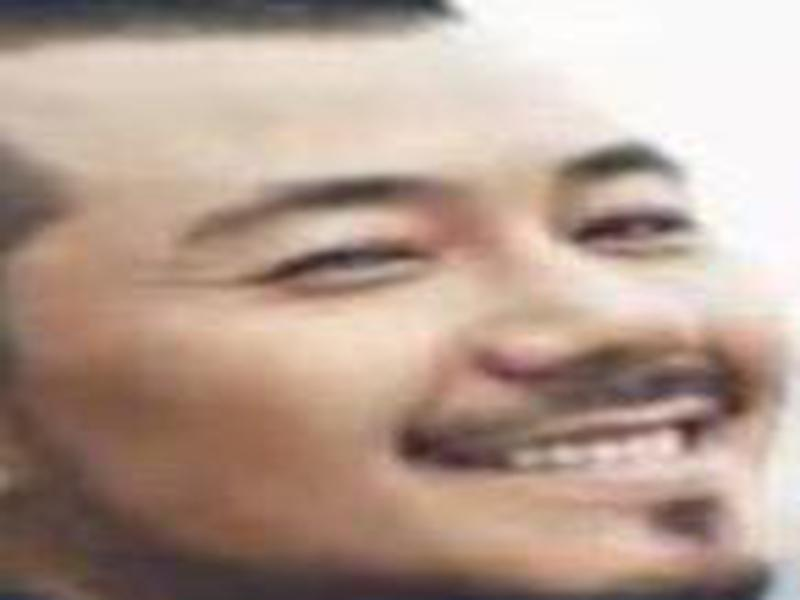without_mask: (16, 31, 789, 600)
